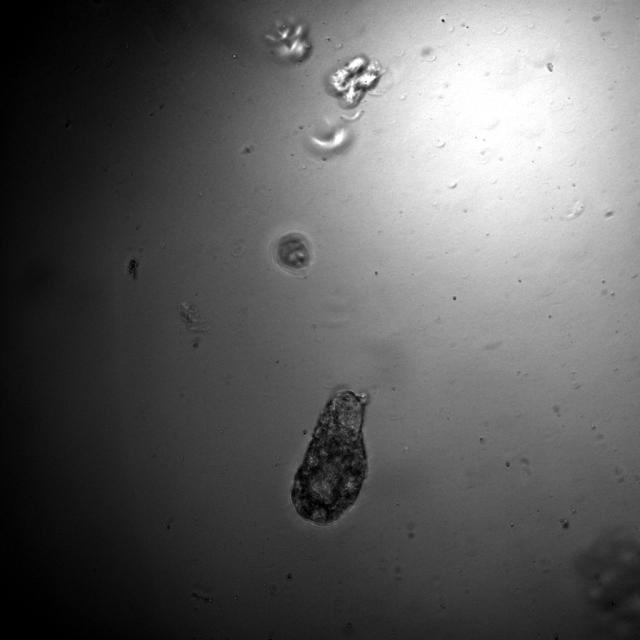organoid: (291, 390, 368, 525), (329, 56, 382, 108), (269, 230, 314, 277), (263, 21, 311, 63)
